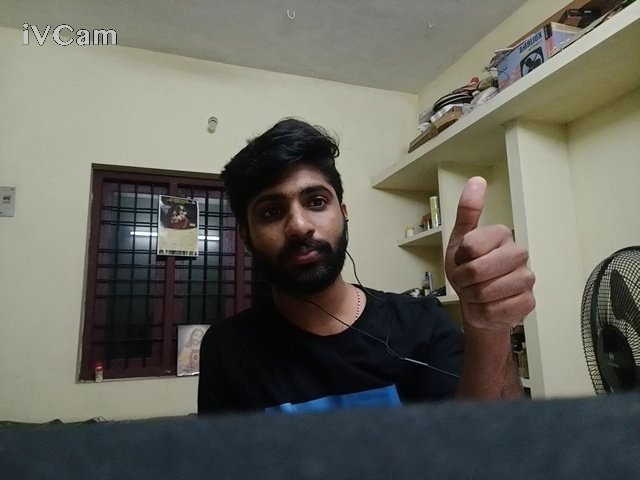Yes: (399, 149, 587, 337)
